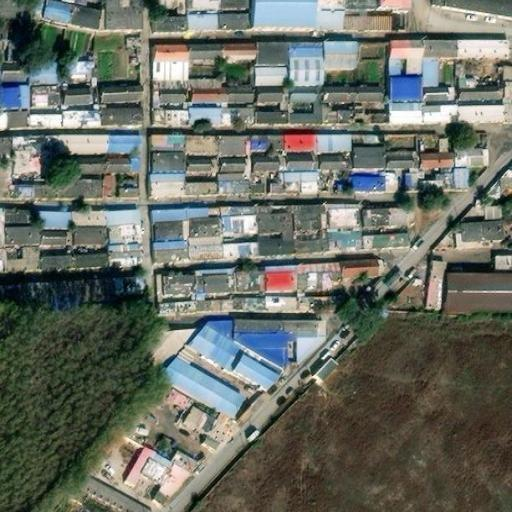building: (171, 320, 322, 383), (153, 357, 246, 422), (120, 448, 183, 506), (227, 360, 279, 398), (417, 39, 448, 99), (281, 43, 318, 90), (5, 138, 49, 177), (322, 203, 355, 252), (1, 284, 45, 320), (67, 209, 104, 247), (248, 44, 282, 85), (346, 133, 381, 172), (256, 262, 298, 294), (0, 209, 35, 246), (44, 283, 78, 321), (385, 40, 417, 79), (217, 89, 249, 128), (448, 39, 502, 62), (109, 278, 140, 318), (282, 89, 318, 123), (77, 282, 110, 319), (104, 209, 136, 247), (381, 132, 413, 170), (318, 109, 385, 127), (297, 261, 337, 291), (248, 95, 283, 128), (182, 94, 218, 126), (146, 64, 181, 96), (286, 204, 323, 234), (215, 205, 253, 234), (317, 43, 351, 75), (152, 272, 192, 299), (384, 79, 417, 111), (35, 209, 67, 242), (191, 271, 228, 299), (252, 204, 286, 234), (179, 407, 213, 437), (311, 351, 343, 382), (355, 208, 400, 230), (317, 74, 351, 103), (369, 0, 397, 35), (147, 100, 183, 127), (350, 42, 380, 74), (491, 277, 512, 322), (355, 234, 402, 254), (454, 223, 493, 247), (292, 338, 322, 369), (148, 238, 185, 262), (19, 64, 56, 87), (278, 172, 315, 195), (32, 6, 64, 32), (62, 10, 94, 36), (287, 233, 323, 256), (351, 74, 380, 102), (452, 108, 494, 127), (95, 110, 137, 129), (417, 105, 452, 127), (336, 261, 374, 281), (144, 167, 177, 190), (252, 236, 288, 257), (209, 14, 243, 36), (20, 87, 54, 109), (57, 137, 101, 154), (312, 133, 346, 154), (184, 240, 216, 262), (277, 133, 312, 153), (163, 450, 191, 475), (228, 270, 257, 294), (413, 151, 449, 170), (146, 45, 180, 65), (94, 97, 136, 113), (36, 254, 69, 274), (348, 172, 381, 192), (178, 134, 212, 153), (144, 135, 178, 154), (278, 153, 310, 173), (186, 219, 215, 241), (214, 44, 249, 62), (243, 134, 278, 152), (153, 299, 192, 315), (104, 247, 135, 267), (180, 45, 214, 63), (56, 113, 96, 128), (192, 298, 229, 314), (178, 17, 209, 36), (212, 134, 243, 153), (56, 64, 84, 84), (177, 182, 212, 198), (494, 69, 512, 100), (148, 220, 177, 239), (337, 18, 369, 35), (101, 0, 133, 17), (101, 138, 135, 154), (177, 165, 209, 182), (420, 282, 439, 310), (147, 19, 178, 36), (449, 151, 480, 168), (22, 115, 57, 130), (215, 243, 252, 257), (488, 256, 512, 277), (212, 182, 245, 197), (211, 165, 240, 182), (385, 111, 417, 126), (60, 100, 92, 115), (423, 263, 445, 284), (144, 153, 177, 167), (69, 254, 104, 267), (147, 207, 179, 221), (70, 153, 97, 169), (259, 298, 292, 311), (228, 298, 259, 311), (414, 180, 447, 192), (143, 0, 178, 11), (0, 65, 20, 84), (401, 287, 422, 305), (505, 204, 512, 257), (398, 170, 414, 191), (449, 167, 463, 190), (179, 206, 203, 219), (292, 298, 316, 311), (381, 170, 395, 192), (258, 181, 279, 195), (0, 285, 13, 307), (499, 175, 512, 196), (250, 164, 278, 173), (16, 246, 35, 259), (114, 185, 133, 198), (475, 207, 495, 218), (316, 298, 332, 311), (245, 181, 258, 196), (202, 205, 215, 215), (0, 1, 6, 21), (0, 138, 6, 157), (126, 160, 135, 172)
